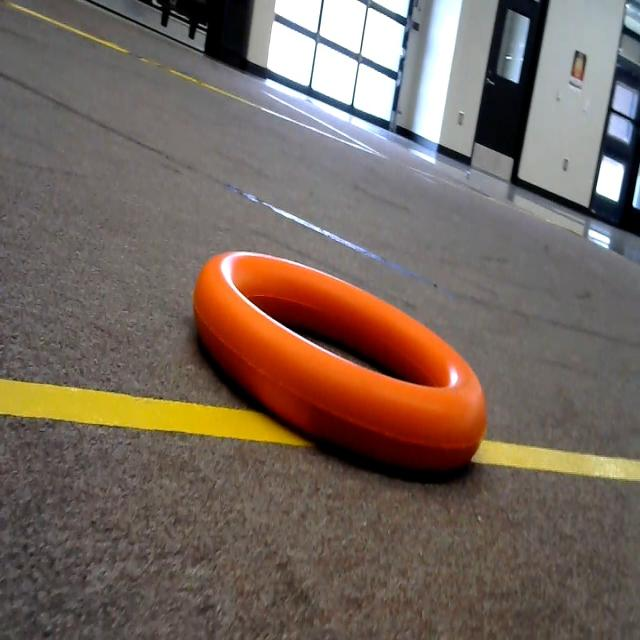note: (174, 183, 506, 536)
